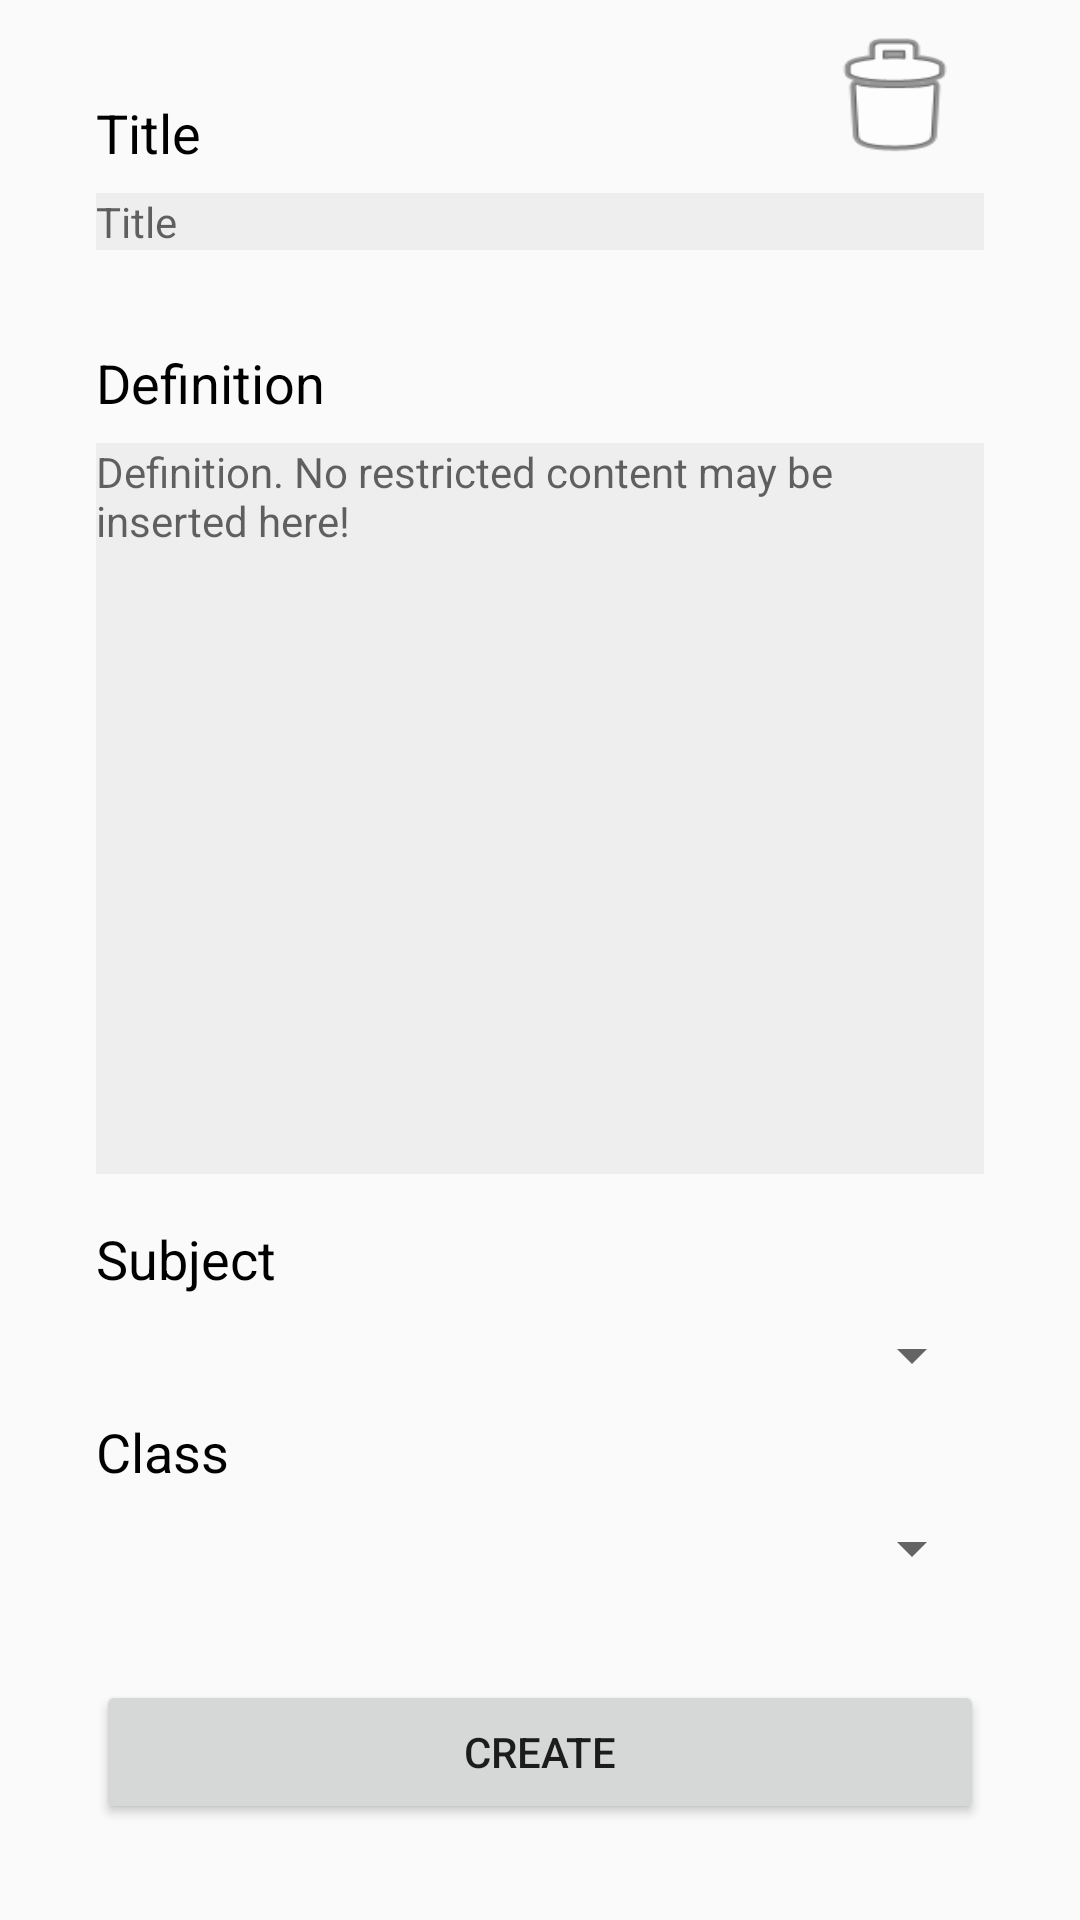

Locate icon controls on the screen. Image size 1080x1920, boxes as (x1, y1, x2, y2).
delete: (844, 38, 946, 151)
